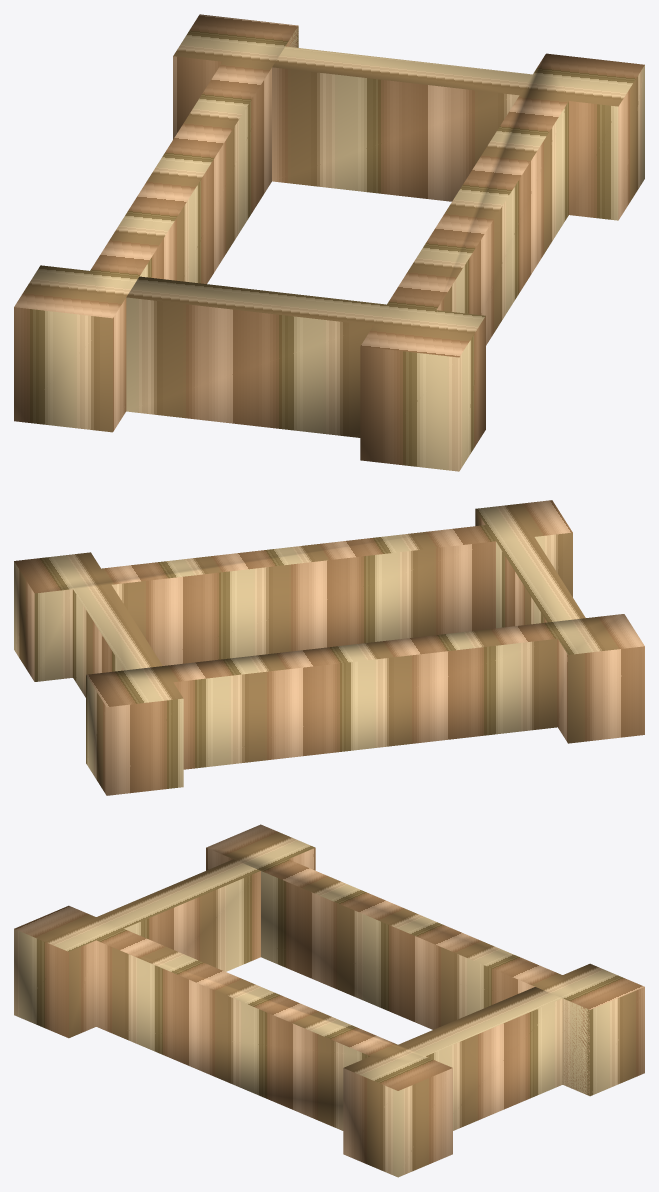
File: fortification.glb
3 views of the same model, one above another, from view 1: azimuth 30°, elevation 25°; view 2: azimuth 150°, elevation 25°; view 3: azimuth 270°, elevation 25° (orthographic). The views are drawn at different scales.
Visible parts, largest first — view 1: fortification; view 2: fortification; view 3: fortification.
Part boxes in pixels (bbox=[...]): fortification: bbox=[14, 14, 644, 471]; fortification: bbox=[14, 500, 644, 795]; fortification: bbox=[14, 824, 644, 1177].
Bounding box in the file's own units: 0.7671 × 0.1159 × 0.7671.
1 material, 1 textured.
